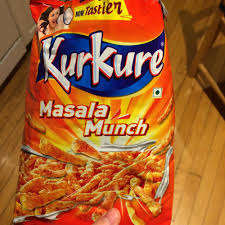kurkure: (40, 35, 164, 91)
plastic: (30, 3, 172, 225)
wrapper: (24, 3, 178, 225)
